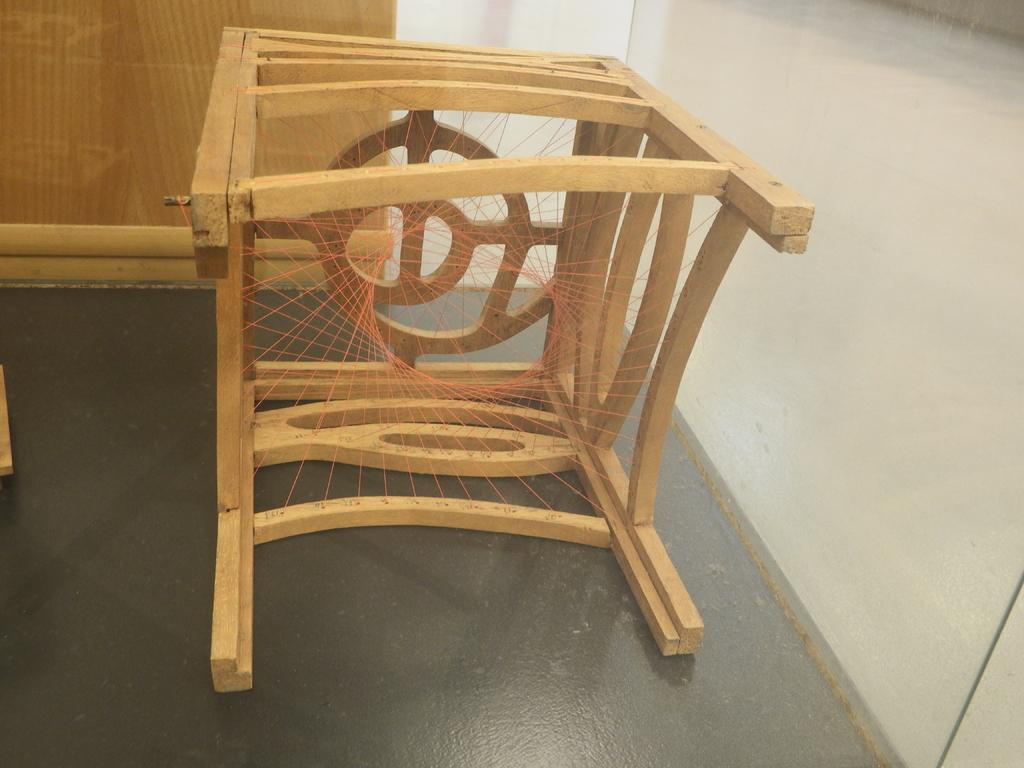Chair: (174, 1, 845, 687)
